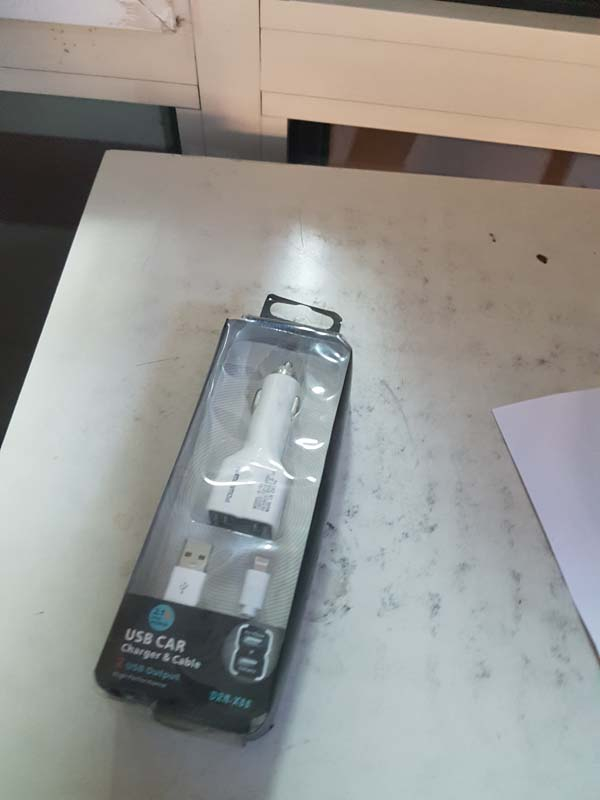usbcarcharger: (90, 287, 356, 752)
